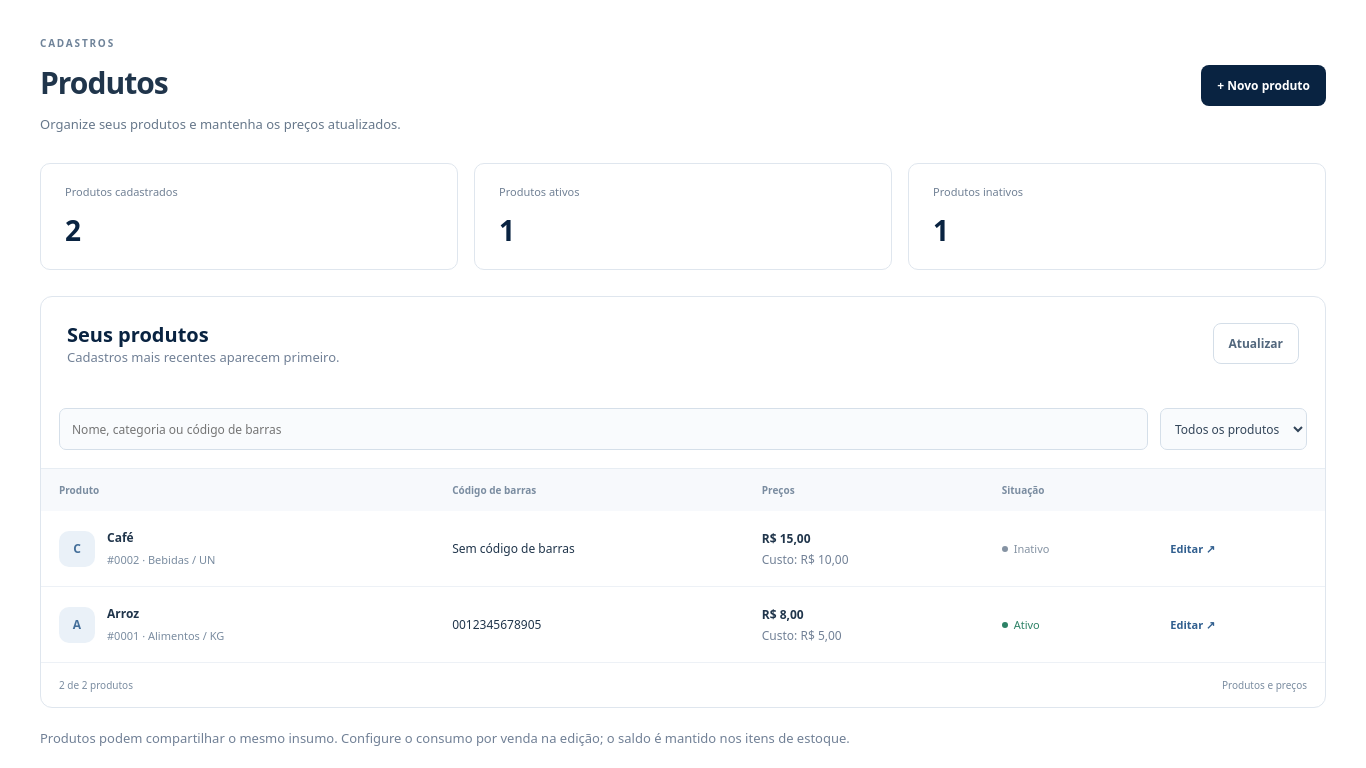
Test: ordena os recentes e filtra por código de barras ou situação
expect the text "Arroz" is shown: met, box [107,605,139,622]
expect the row that starts with "Café" is shown: met, box [107,529,134,546]
Step 1. Type "001234" into the field named "Buscar produtos" → (604, 429), box [59,408,1148,450]
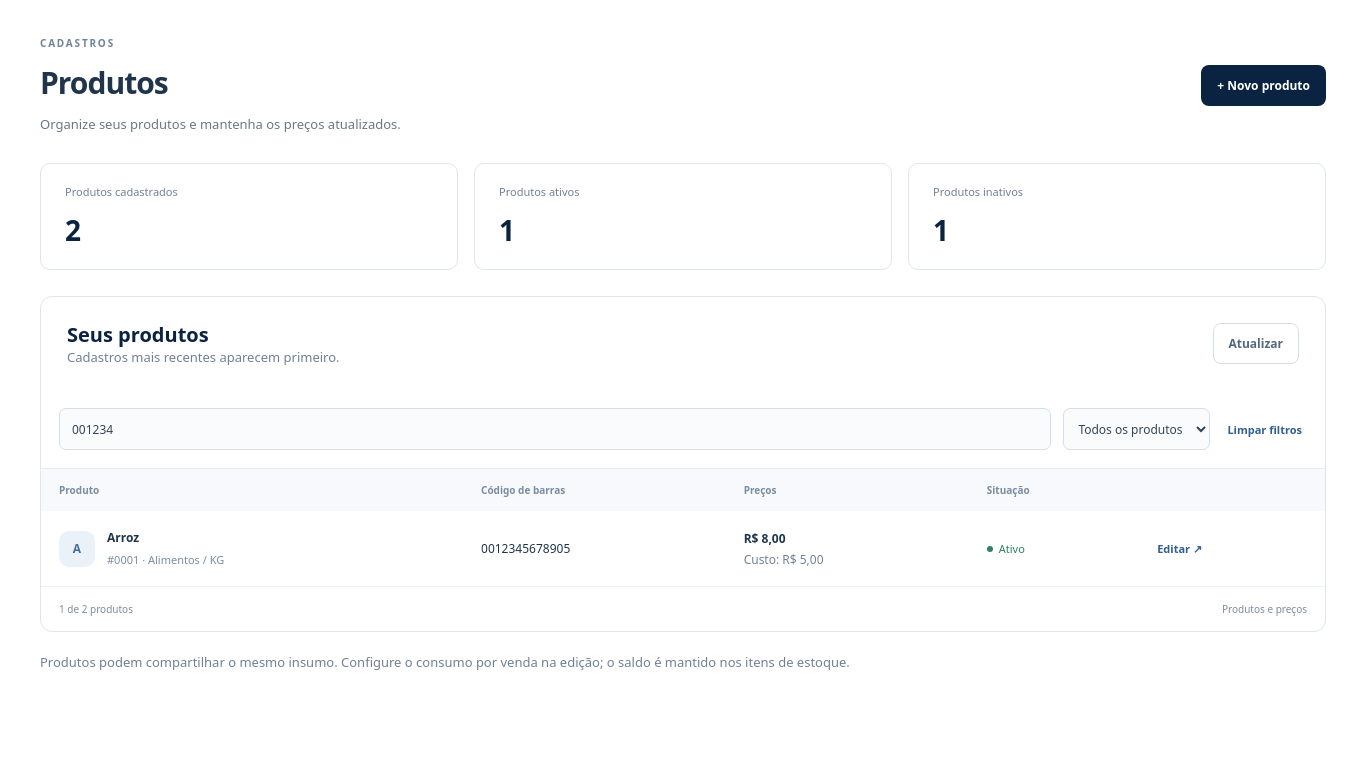
expect the text "Café" is gone: met
Step 2. Click the button "Limpar filtros" → (1265, 429), box [1222,417,1307,442]
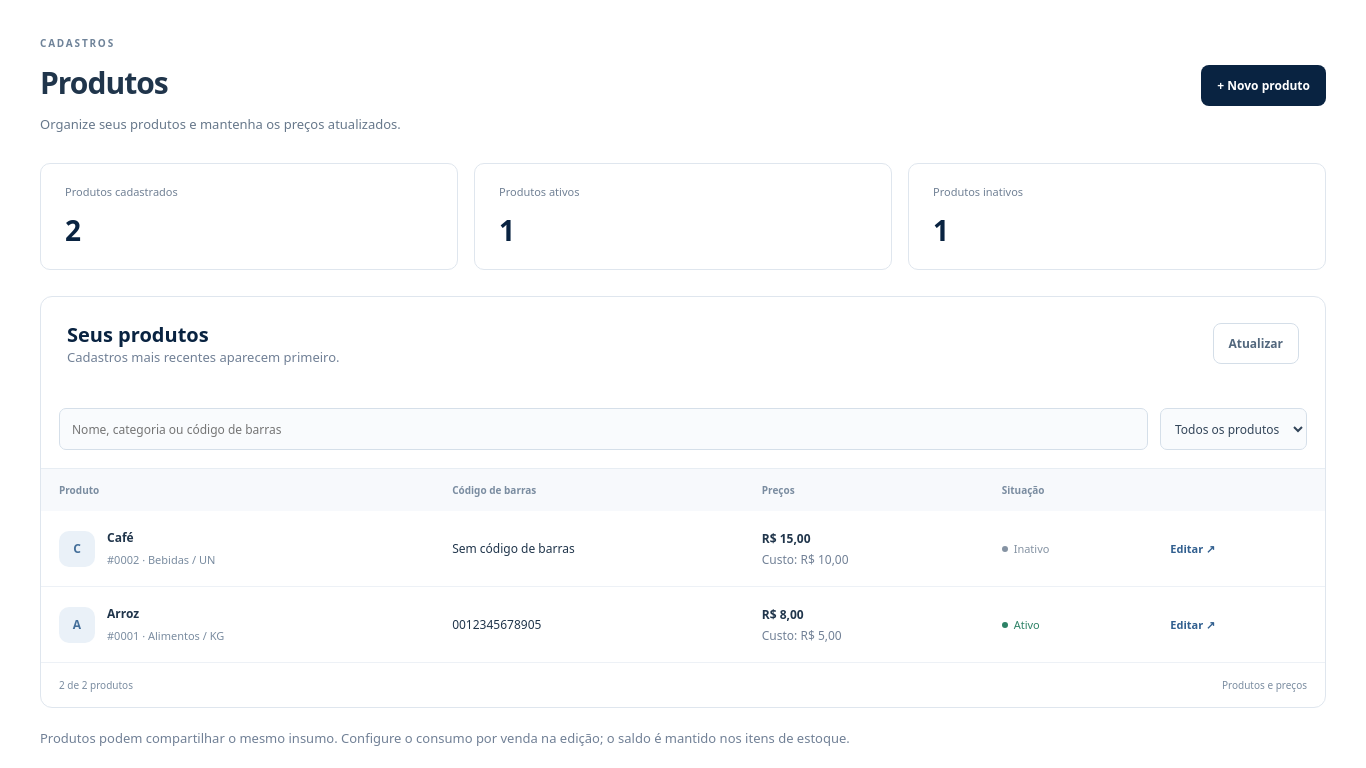
Step 3. Select "Inativos" in the dropdown named "Filtrar produtos" → (1234, 429), box [1160,408,1307,450]
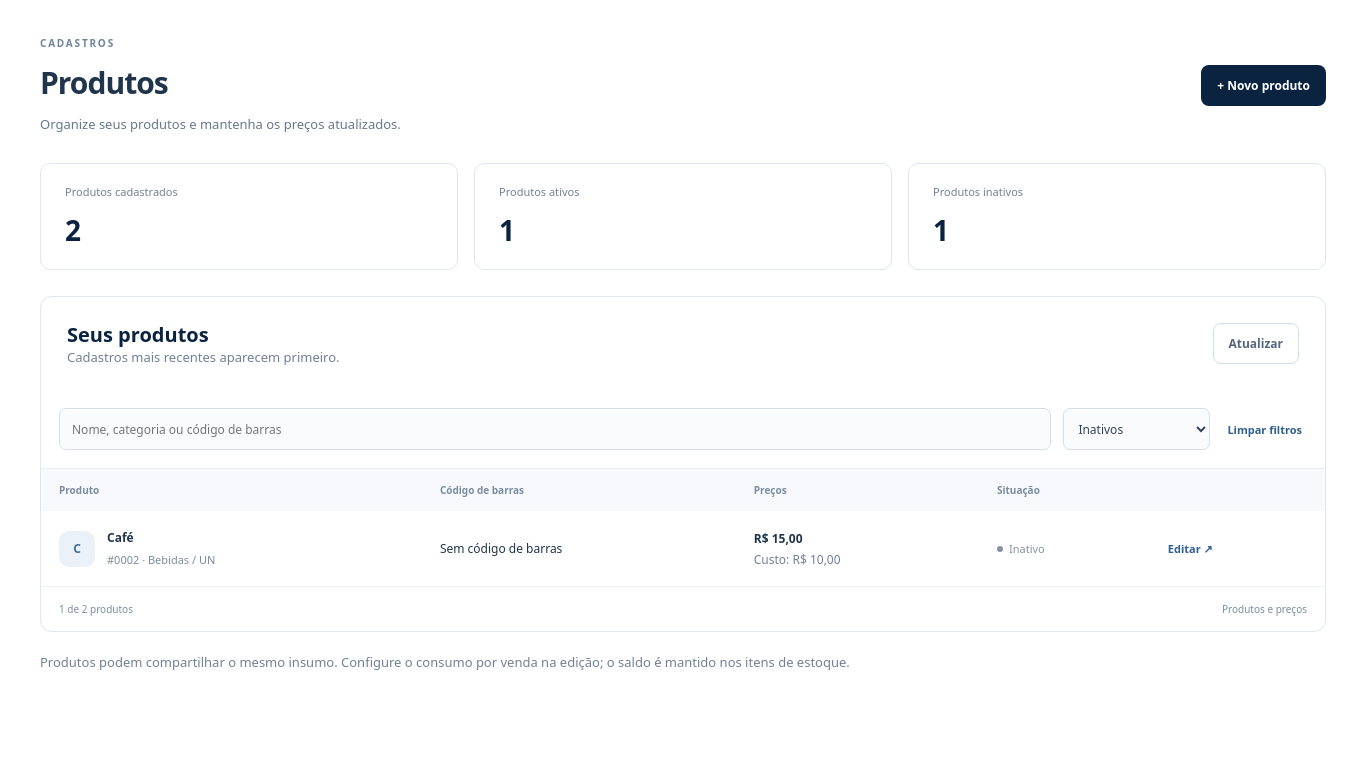
expect the text "Arroz" is gone: met
